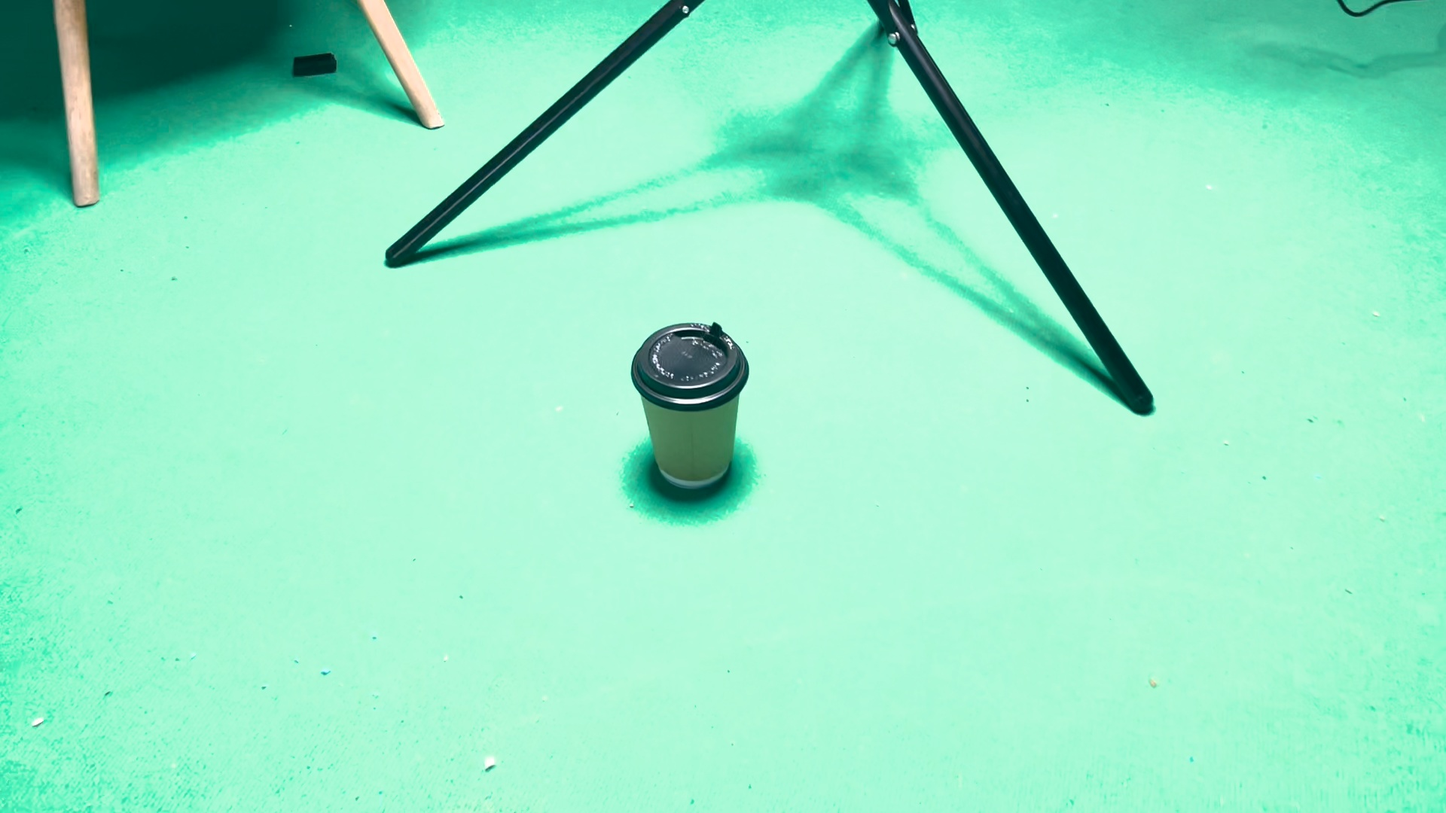cup: (708, 470, 819, 618)
